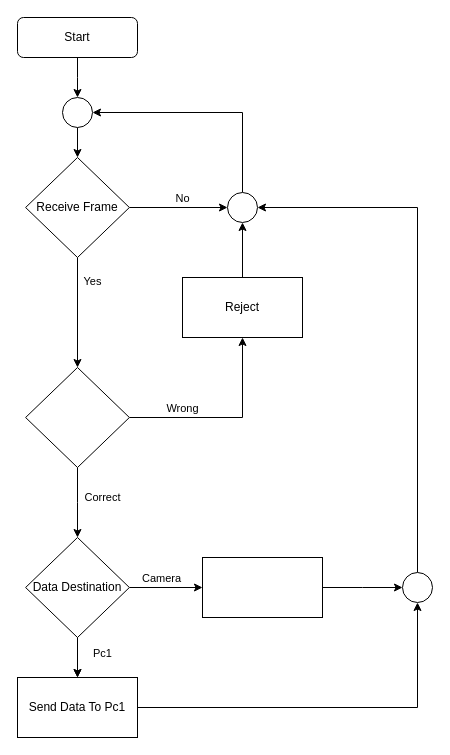
Image size: 450x755. Some labels were removed from this diagram. Each missing label, with the centre of its shape:
Decode By CRC: the point at 77,417
Send Data To Camera: the point at 262,587
